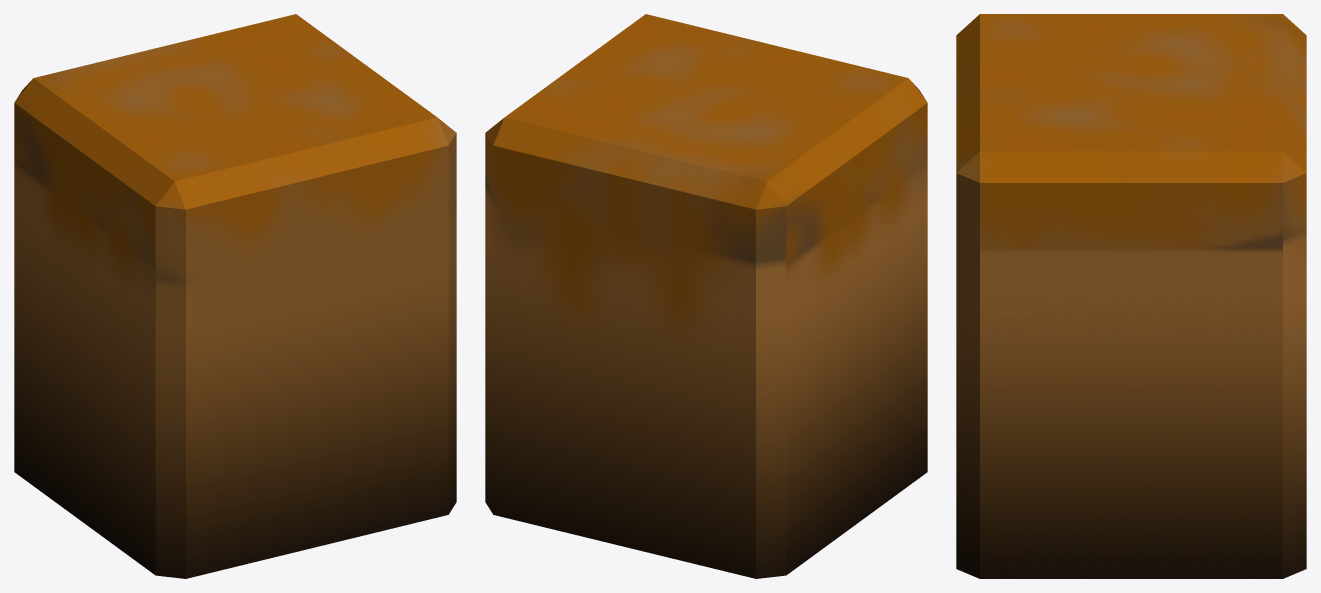
The model's file is medio.FBX.
The picture shows the model from 3 angles, left to right: view 1: azimuth 30°, elevation 25°; view 2: azimuth 150°, elevation 25°; view 3: azimuth 270°, elevation 25°; orthographic projection. The views are drawn at different scales.
Visible parts, largest first — view 1: medio; view 2: medio; view 3: medio.
Part boxes in pixels (x1,y1,x2,y2): medio: [14, 14, 456, 578]; medio: [485, 14, 927, 578]; medio: [956, 14, 1306, 578].
Bounding box in the file's own units: 47.16 × 58.28 × 44.35.
